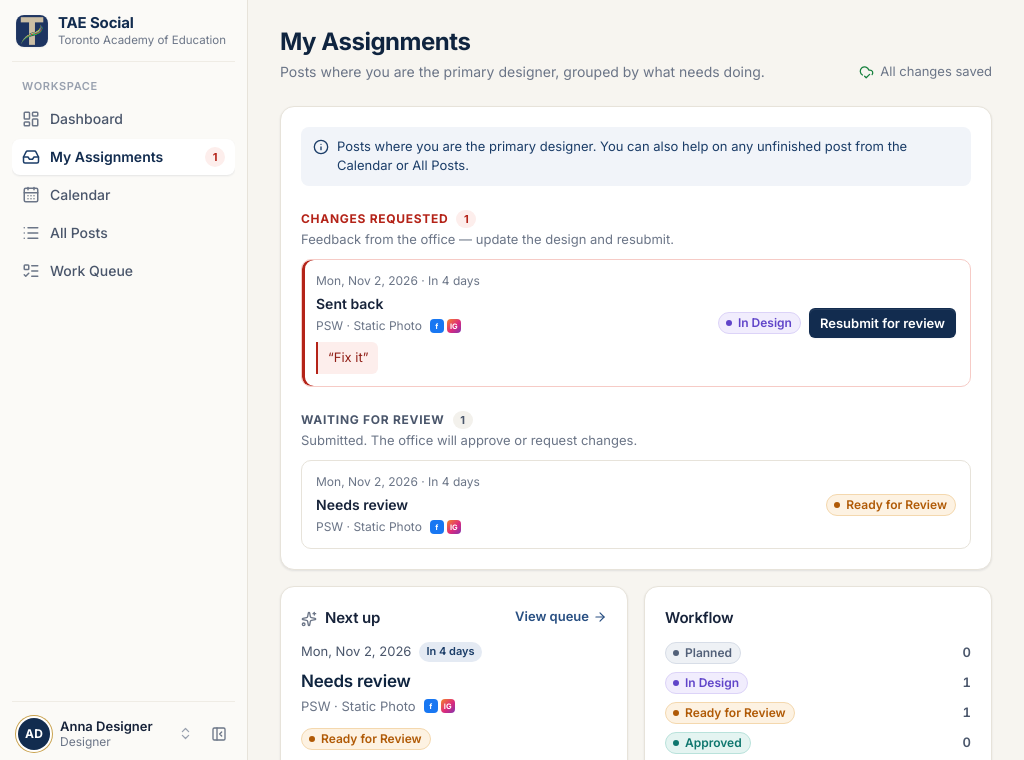
Test: App shell › designers land on My Assignments without admin navigation or actions
Check: the heading "My Assignments" is shown, box [280,27,470,56]
Check: the text "“Fix it”" is shown, box [316,342,378,374]
Click the button "Calendar" at (124, 195), box [12,177,235,213]
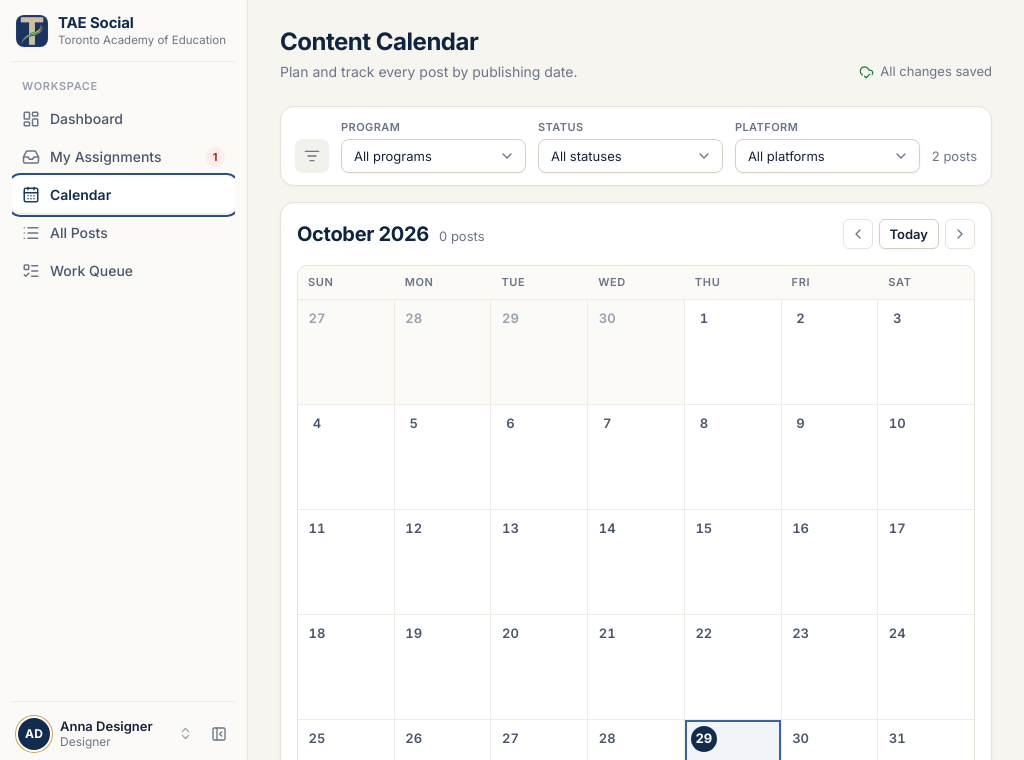
Click the button "All Posts" at (124, 233), box [12,215,235,251]
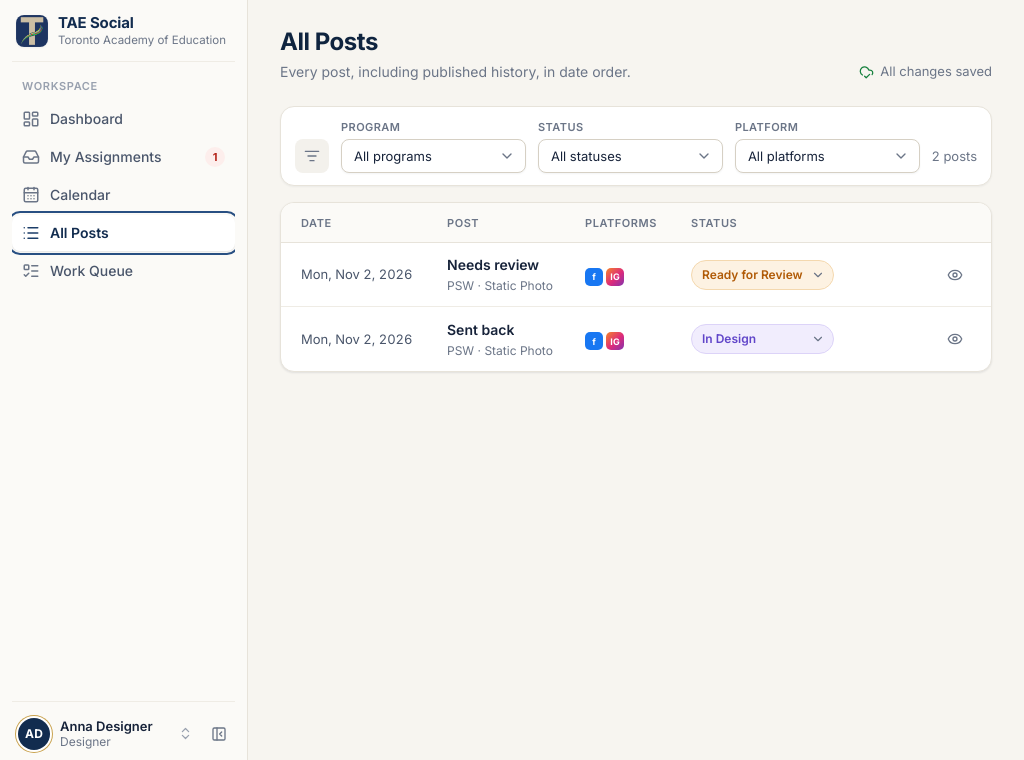
// The account menu offers no admin items.
Click the button "AD Anna Designer Designer" at (106, 734), box [12,712,199,756]
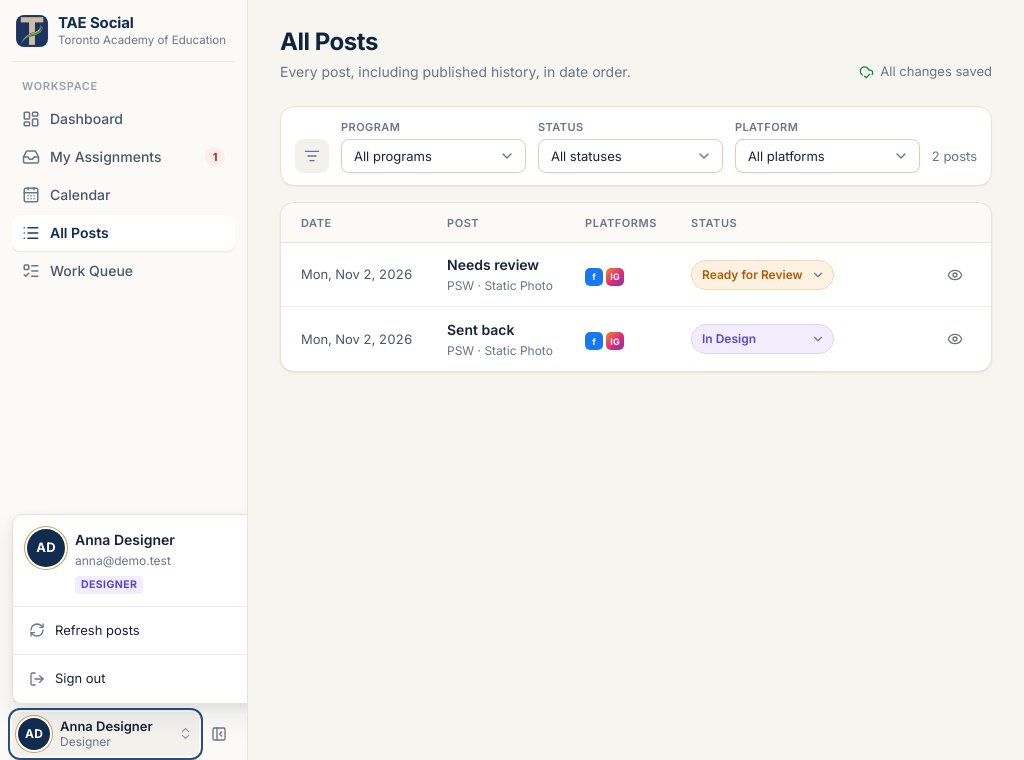
Check: the menu item "Refresh posts" is shown, box [19,612,248,648]
